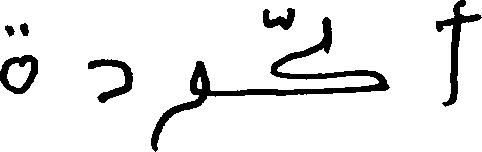X: (270, 3, 389, 100), (151, 56, 209, 151), (437, 0, 481, 111), (0, 18, 36, 98), (87, 54, 132, 107)
